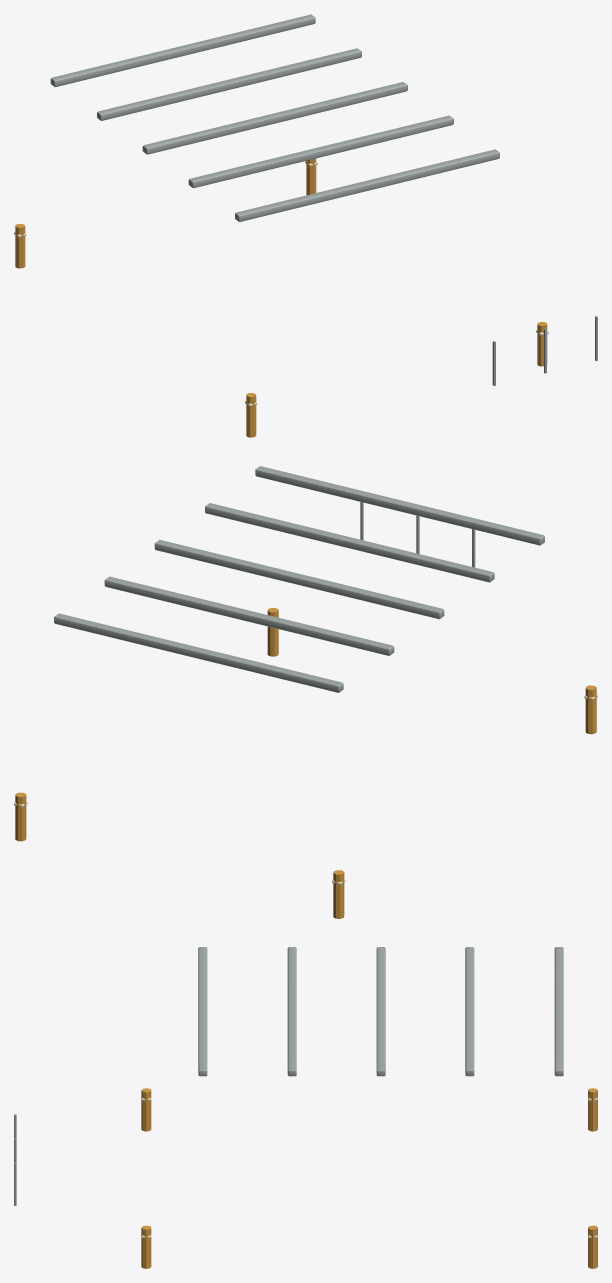
File: acabado-control.glb
The picture shows the model from 3 angles, top to bottom: view 1: azimuth 30°, elevation 25°; view 2: azimuth 150°, elevation 25°; view 3: azimuth 270°, elevation 25°; orthographic projection. The views are drawn at different scales.
Parts seen in each view (by area): view 1: Aluminio satinado, Protección amarilla; view 2: Aluminio satinado, Protección amarilla; view 3: Aluminio satinado, Protección amarilla.
Boxes of the visible parts, bbox=[...] form: Aluminio satinado: bbox=[50, 14, 597, 385]; Protección amarilla: bbox=[15, 158, 547, 437]; Aluminio satinado: bbox=[54, 466, 544, 692]; Protección amarilla: bbox=[15, 608, 596, 918]; Aluminio satinado: bbox=[14, 947, 563, 1205]; Protección amarilla: bbox=[141, 1088, 597, 1268].
Size of the model in its own units: 7.05 by 4.41 by 12.29.
